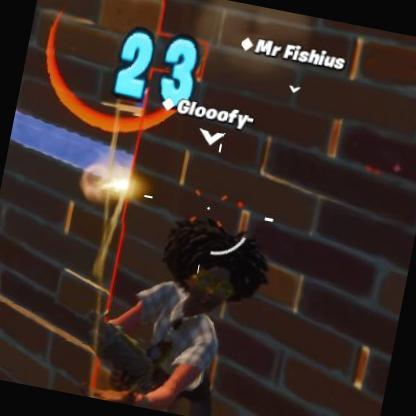person: (136, 221, 282, 416)
